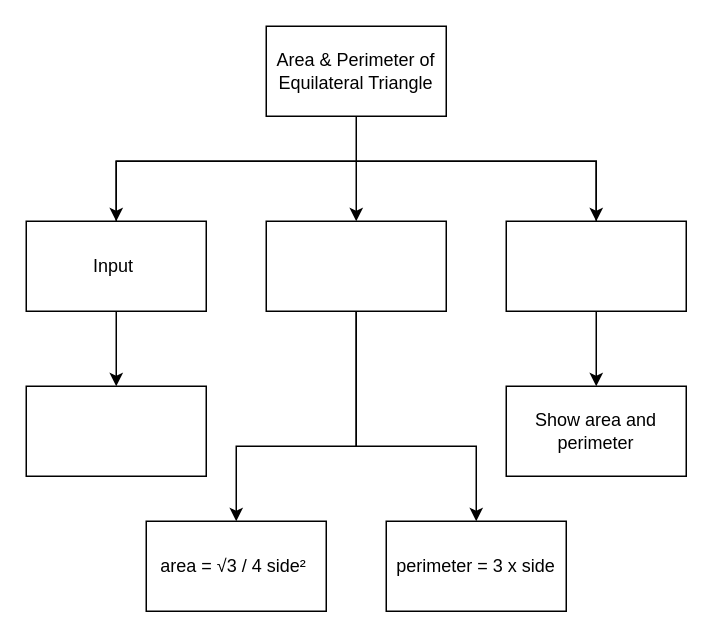
Some shapes in this 713 by 638 pixel diagram are drawn without their labels. Each missing label, with the centre of its shape:
"Get side of equilateral triangle (mm)" belongs at [115,430].
"Output" belongs at [595,265].
"Process" belongs at [355,265].
